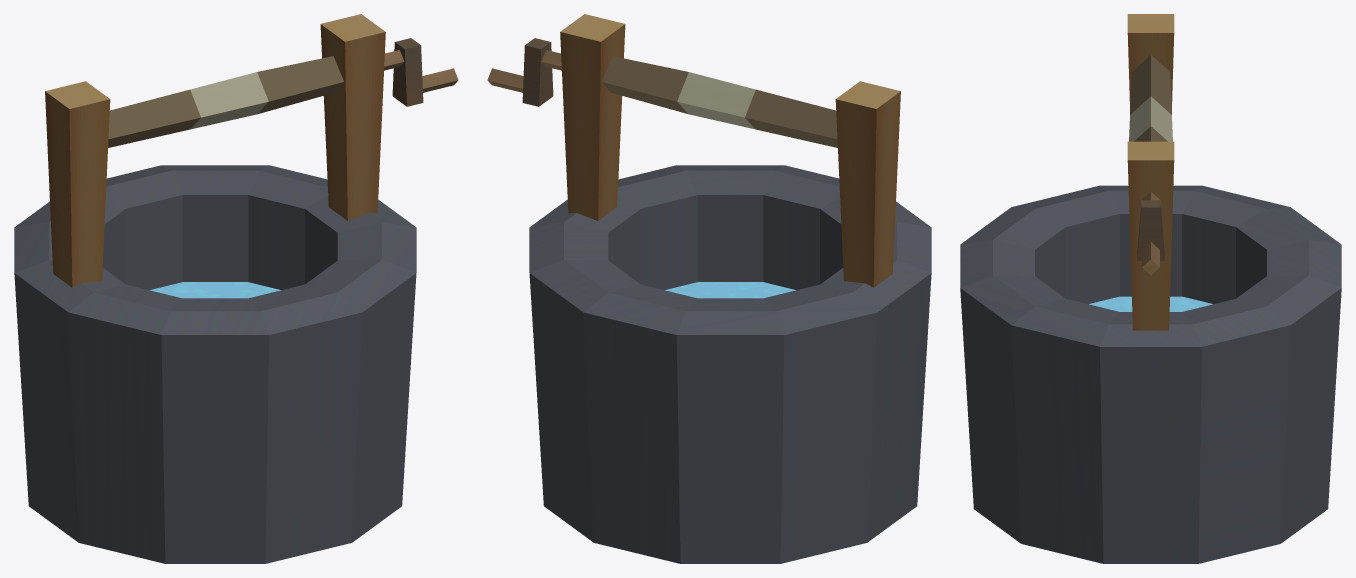
File: Well_2_LOD1.fbx
3 views of the same model, side by side, from view 1: azimuth 30°, elevation 25°; view 2: azimuth 150°, elevation 25°; view 3: azimuth 270°, elevation 25° (orthographic). The views are drawn at different scales.
Parts seen in each view (by area): view 1: polySurface9740; view 2: polySurface9740; view 3: polySurface9740.
Boxes of the visible parts, box(x1,y1,x2,y2) form: polySurface9740: box(14, 14, 458, 563); polySurface9740: box(487, 14, 931, 563); polySurface9740: box(960, 14, 1341, 563).
Bounding box in the file's own units: 210 × 206 × 177.
